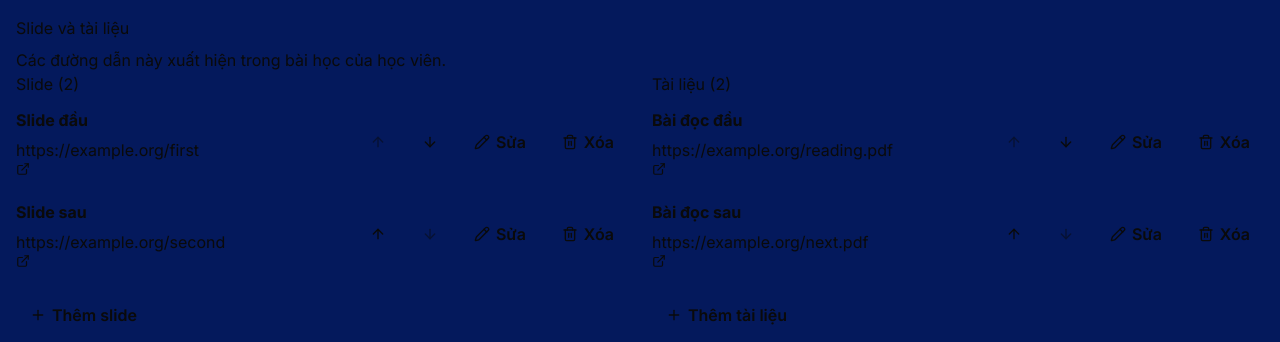
Lesson resource ordering when enabled › shows a failed reorder and reloads the current list
What coordinates should you click on to do the following:
click the button named "Đưa Slide đầu xuống"
I would click on:
 (430, 142)
Its box is [408,120,452,164].
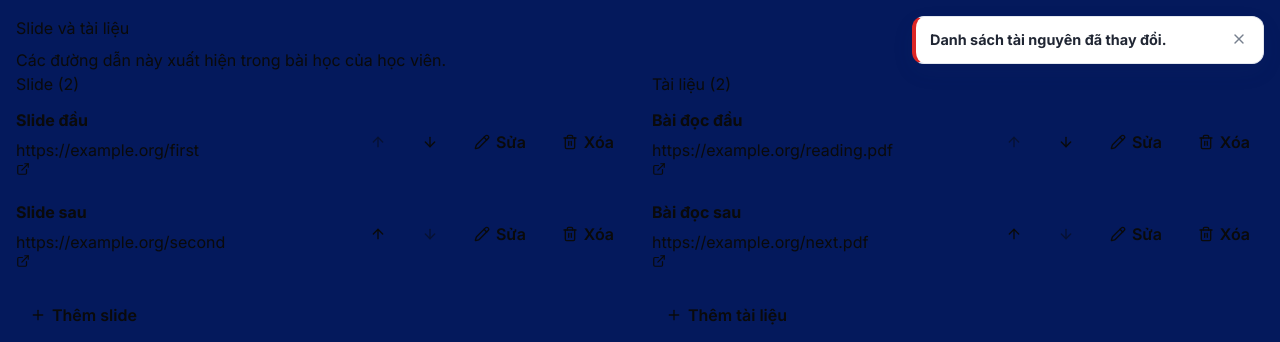
Now the message reads "Danh sách tài nguyên đã thay đổi.", box [930,31,1167,48]
